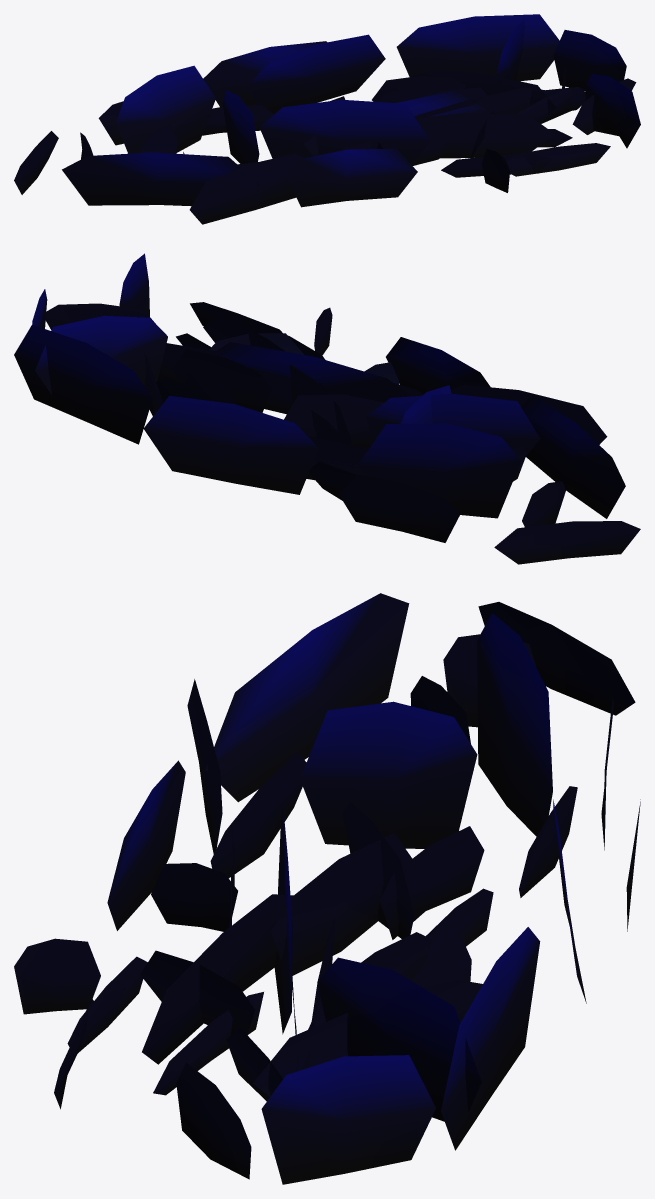
The model's file is SM_Grass_S_Patch_Lg_04.fbx.
The picture shows the model from 3 angles, top to bottom: view 1: azimuth 30°, elevation 25°; view 2: azimuth 150°, elevation 25°; view 3: azimuth 270°, elevation 25°; orthographic projection. The views are drawn at different scales.
Visible parts, largest first — view 1: SM_Grass_S_Patch_Lg_04; view 2: SM_Grass_S_Patch_Lg_04; view 3: SM_Grass_S_Patch_Lg_04.
Part boxes in pixels (x1,y1,x2,y2): SM_Grass_S_Patch_Lg_04: (14,14,640,224); SM_Grass_S_Patch_Lg_04: (14,253,640,564); SM_Grass_S_Patch_Lg_04: (14,593,640,1184).
Bounding box in the file's own units: 440 × 214 × 60.82.
